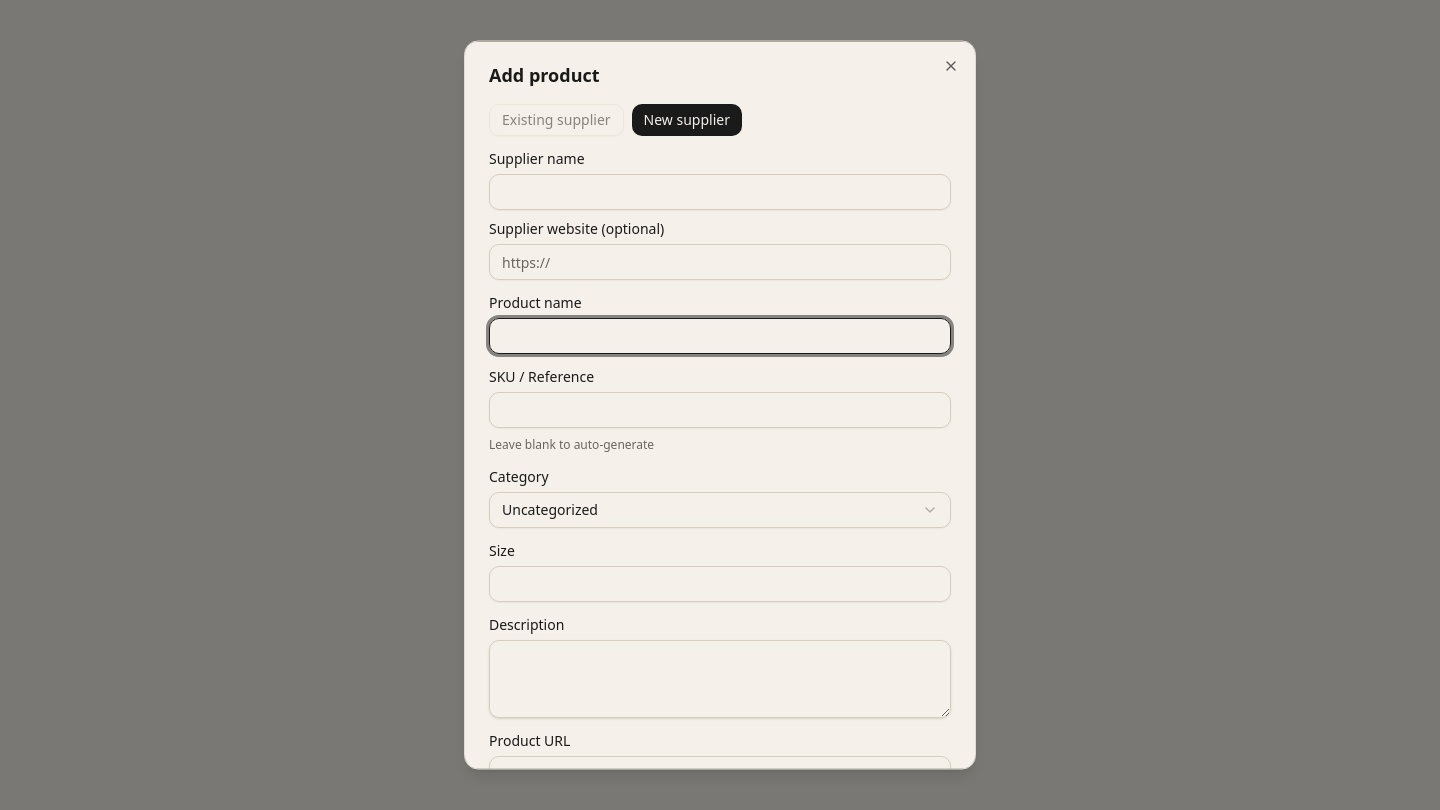
it: ProductCreateDialog › shows inline error and error toast on create failure
The width and height of the screenshot is (1440, 810).
Type "Supplier X" into the field labelled "Supplier name" at (720, 192), box x1=489 y1=174 x2=951 y2=210
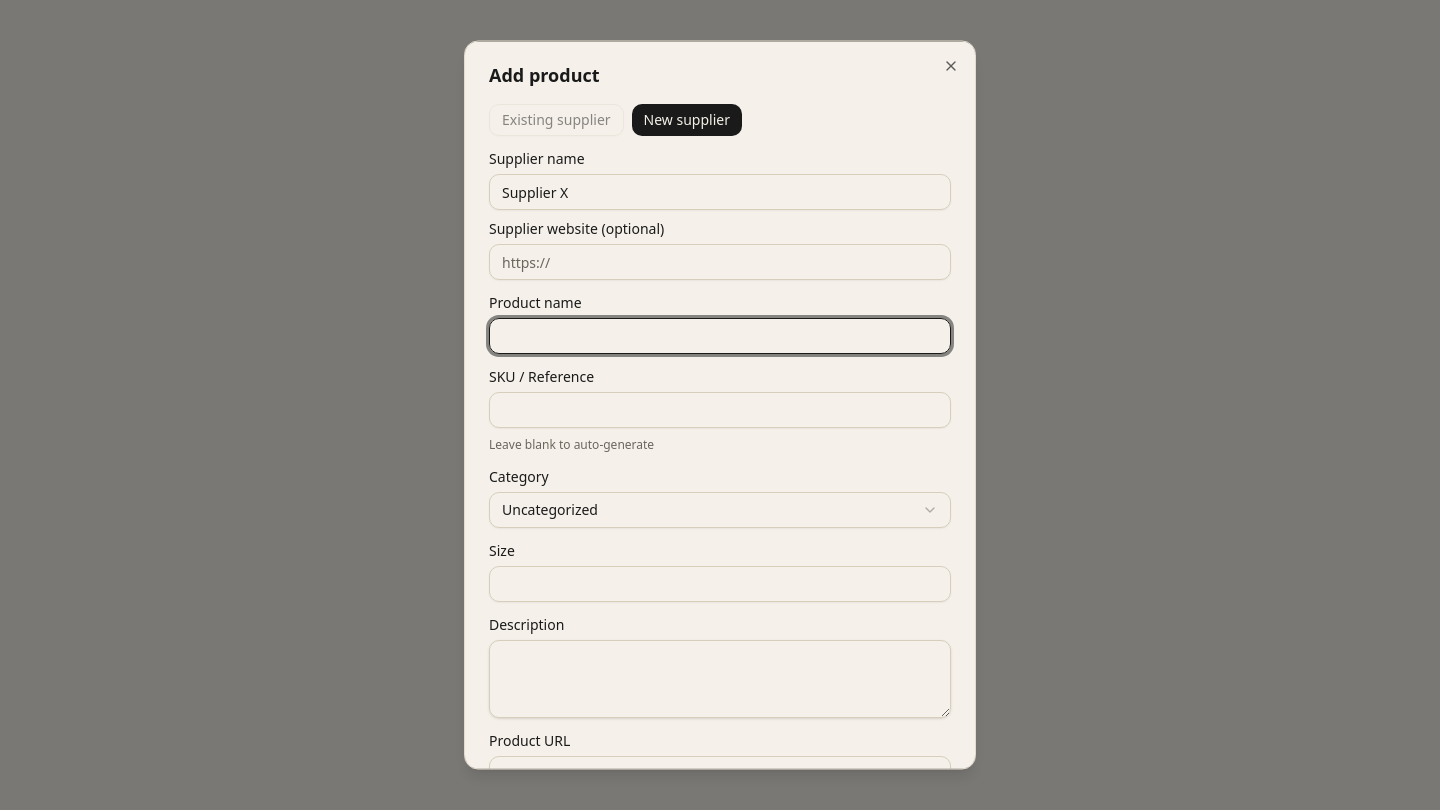
Type "Product X" into the field labelled "Product name" at (720, 336), box x1=489 y1=318 x2=951 y2=354
(page scrolled)
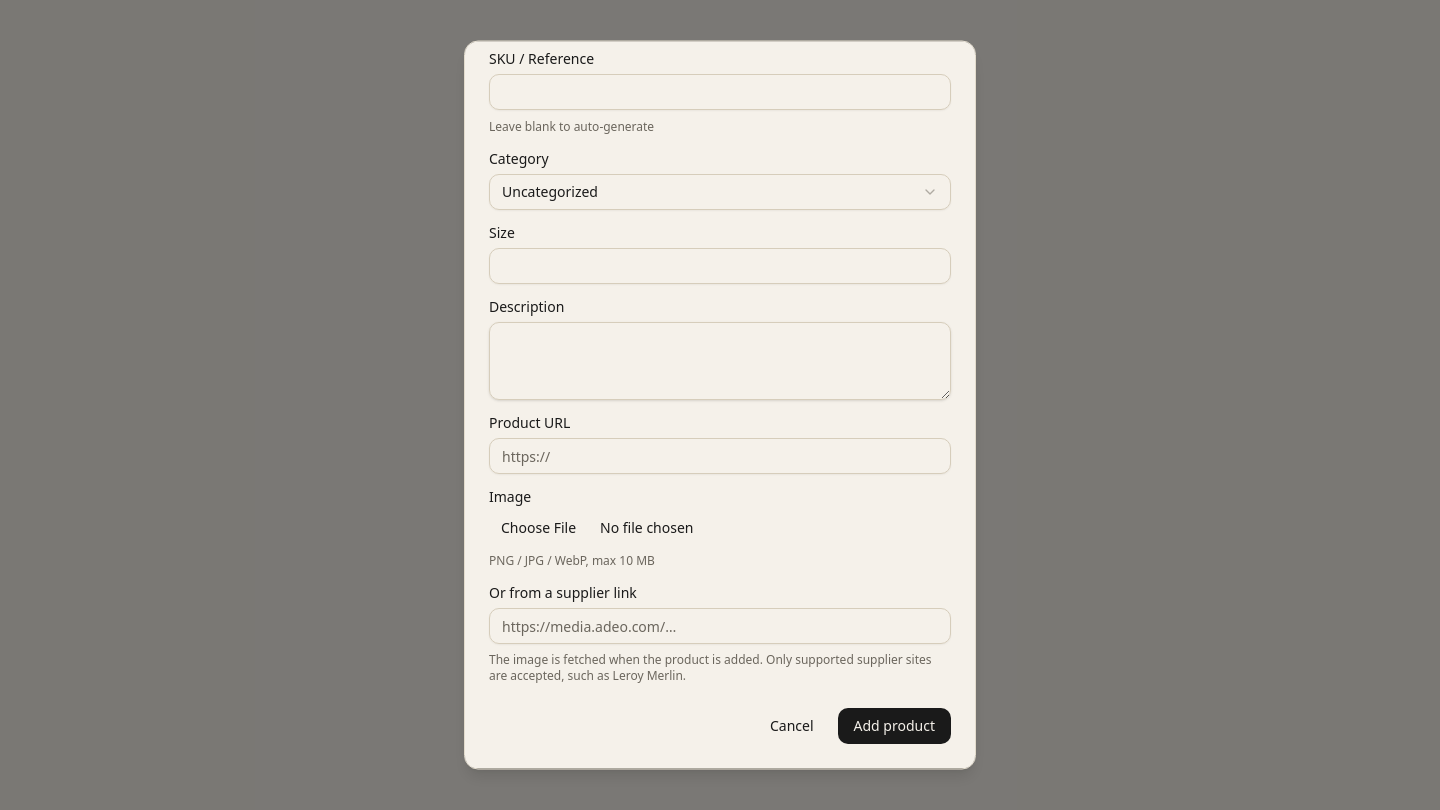
Click the button "Add product" at (894, 726), box x1=838 y1=708 x2=951 y2=744
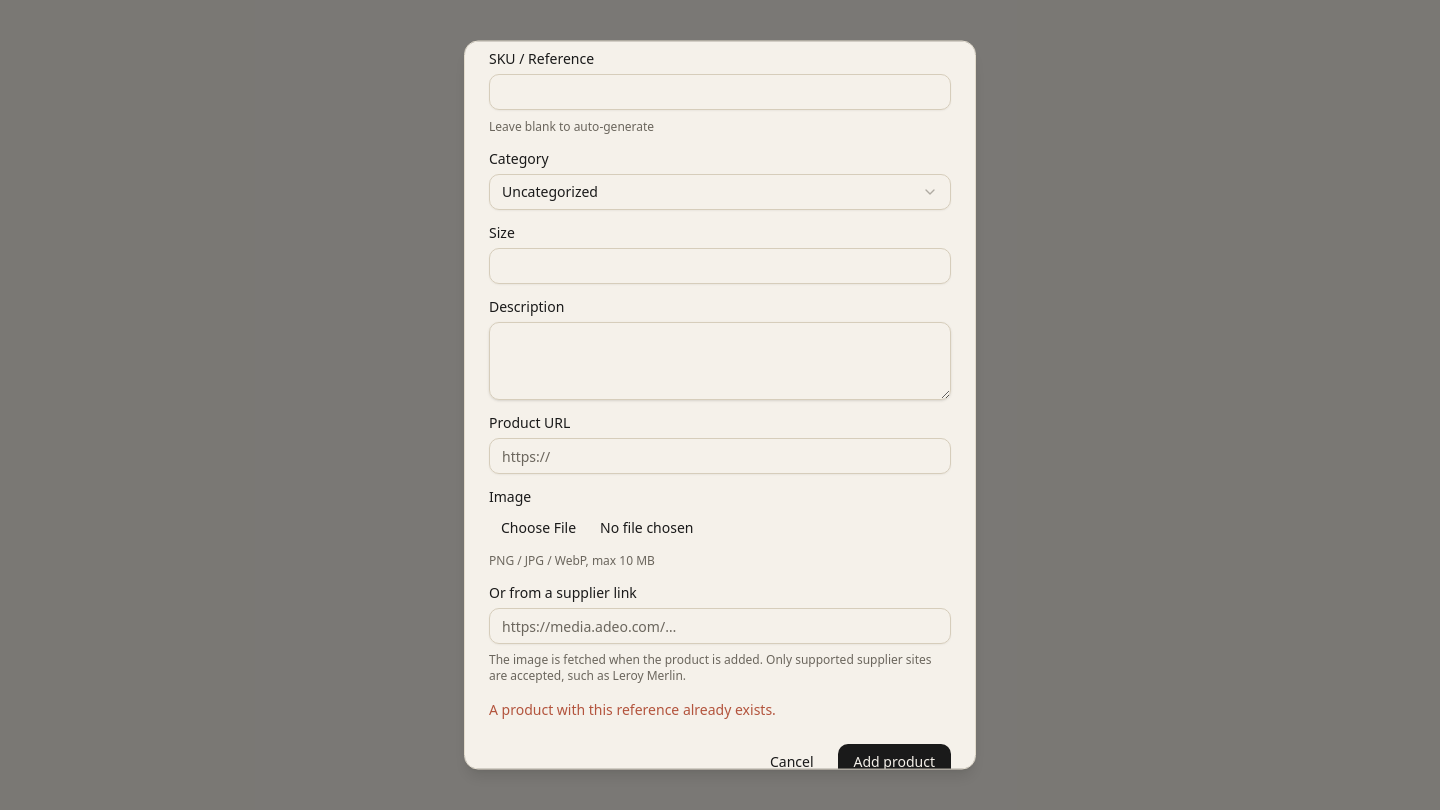
Result: the text "A product with this reference already exists." is shown at x1=489 y1=700 x2=776 y2=720
